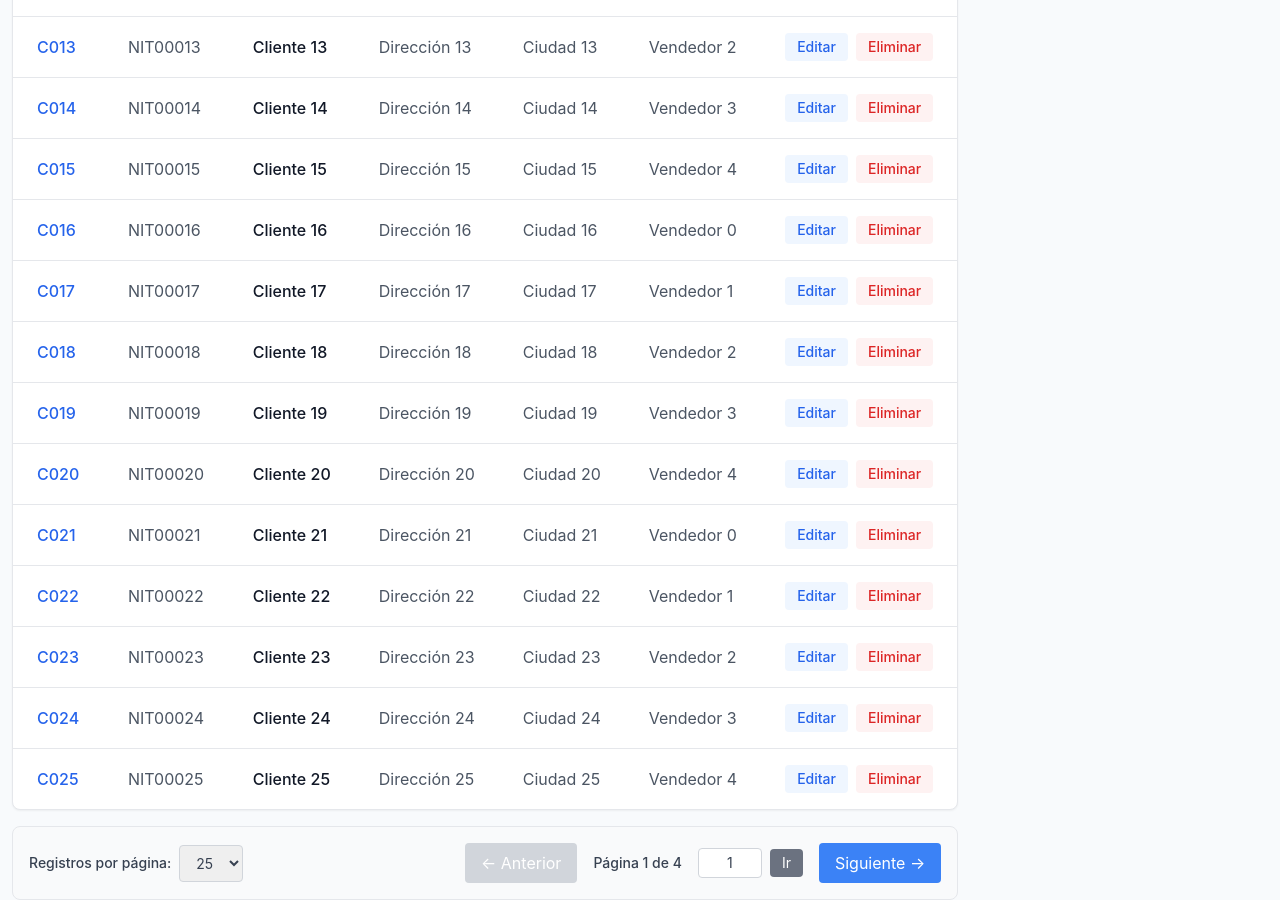
Scenario: ClientsModule Unit Tests › Pagination › should navigate to next page
This screenshot has width=1280, height=900.
(page scrolled)
Click the button "Siguiente →".
click(880, 863)  # box x1=819 y1=843 x2=941 y2=883
(page scrolled)
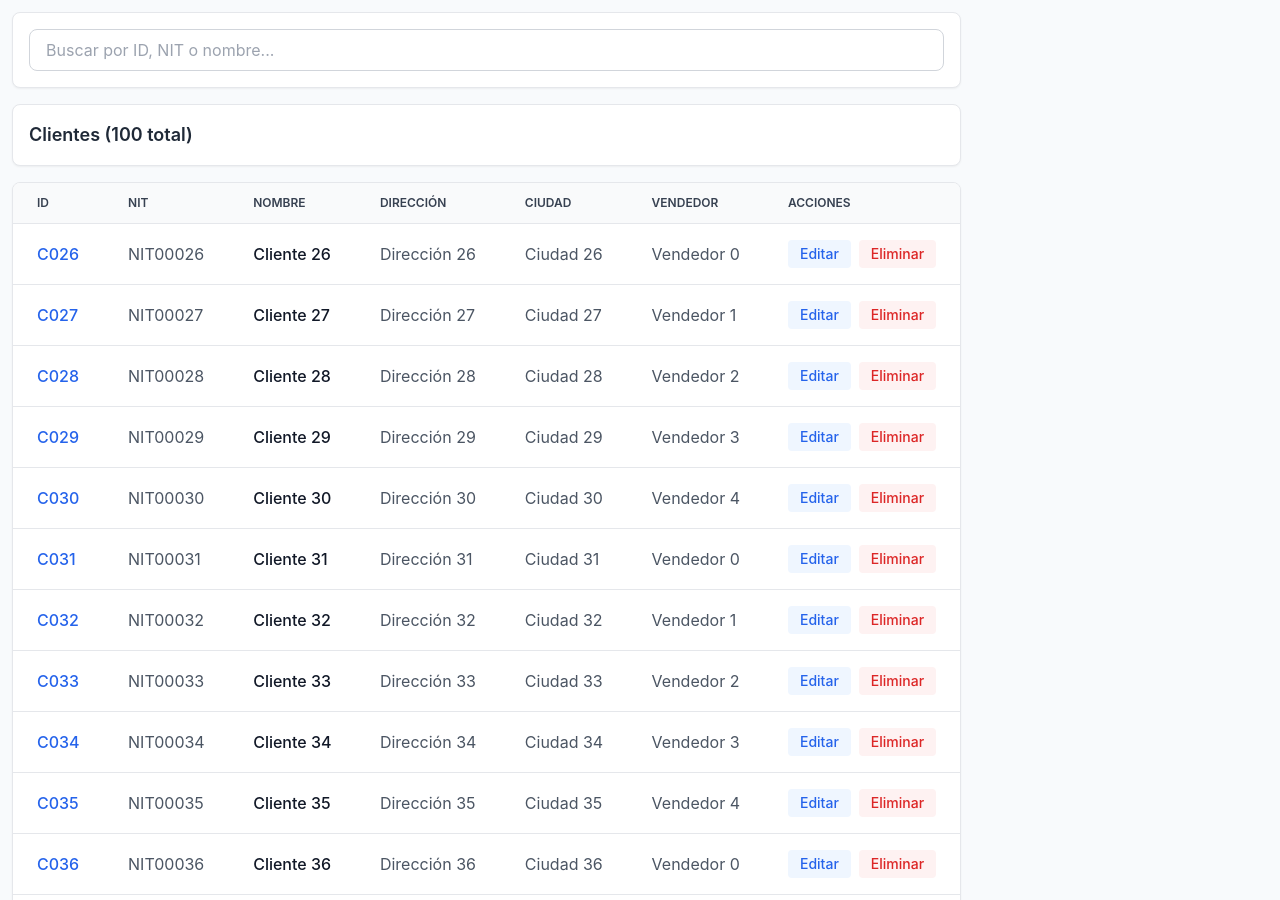
Check: the text "Cliente 26" is shown, box x1=229 y1=224 x2=356 y2=284
